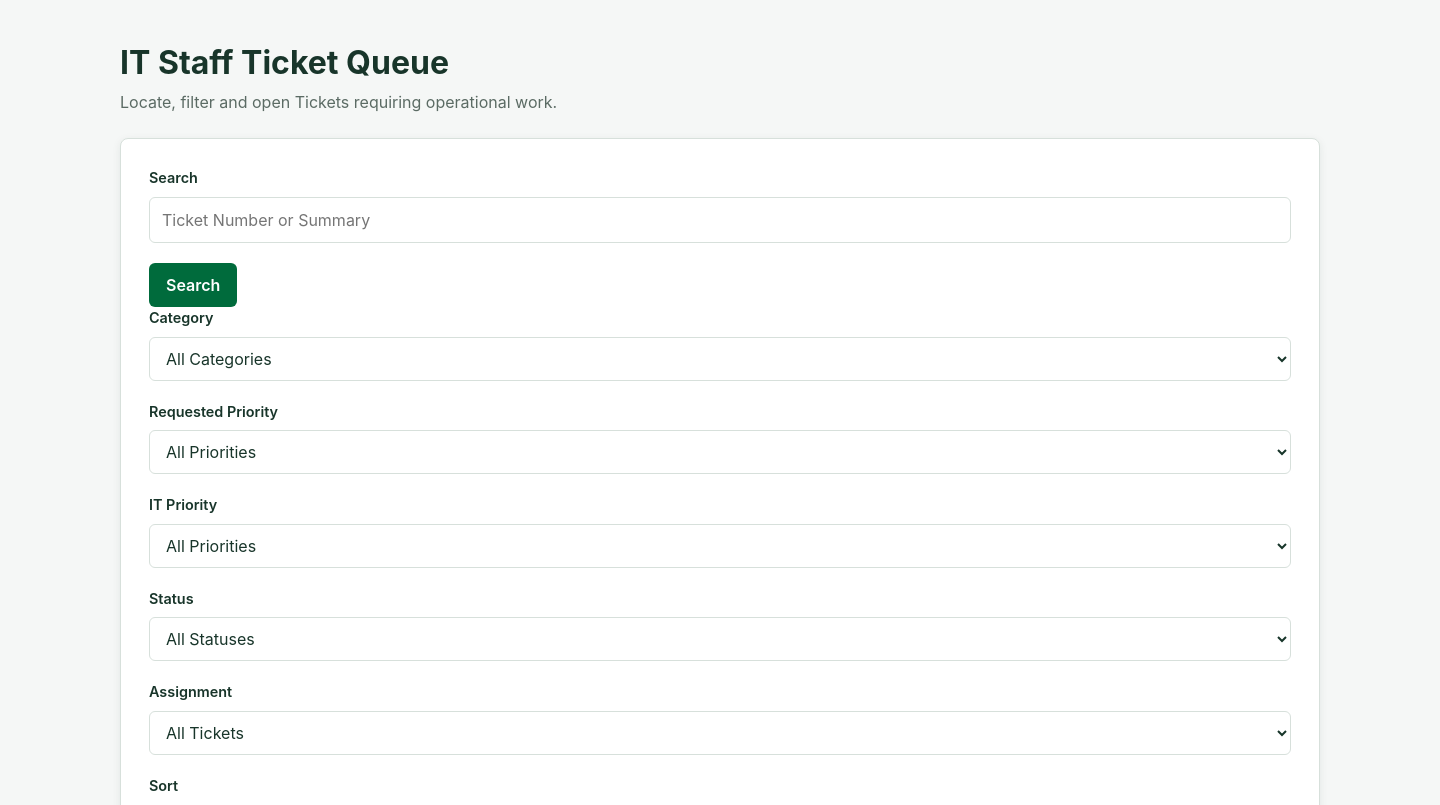
it: StaffTicketQueue › displays a separate no-search-results state
Type "missing ticket" into the field labelled "Search" at [720, 220], box [149, 197, 1291, 243]
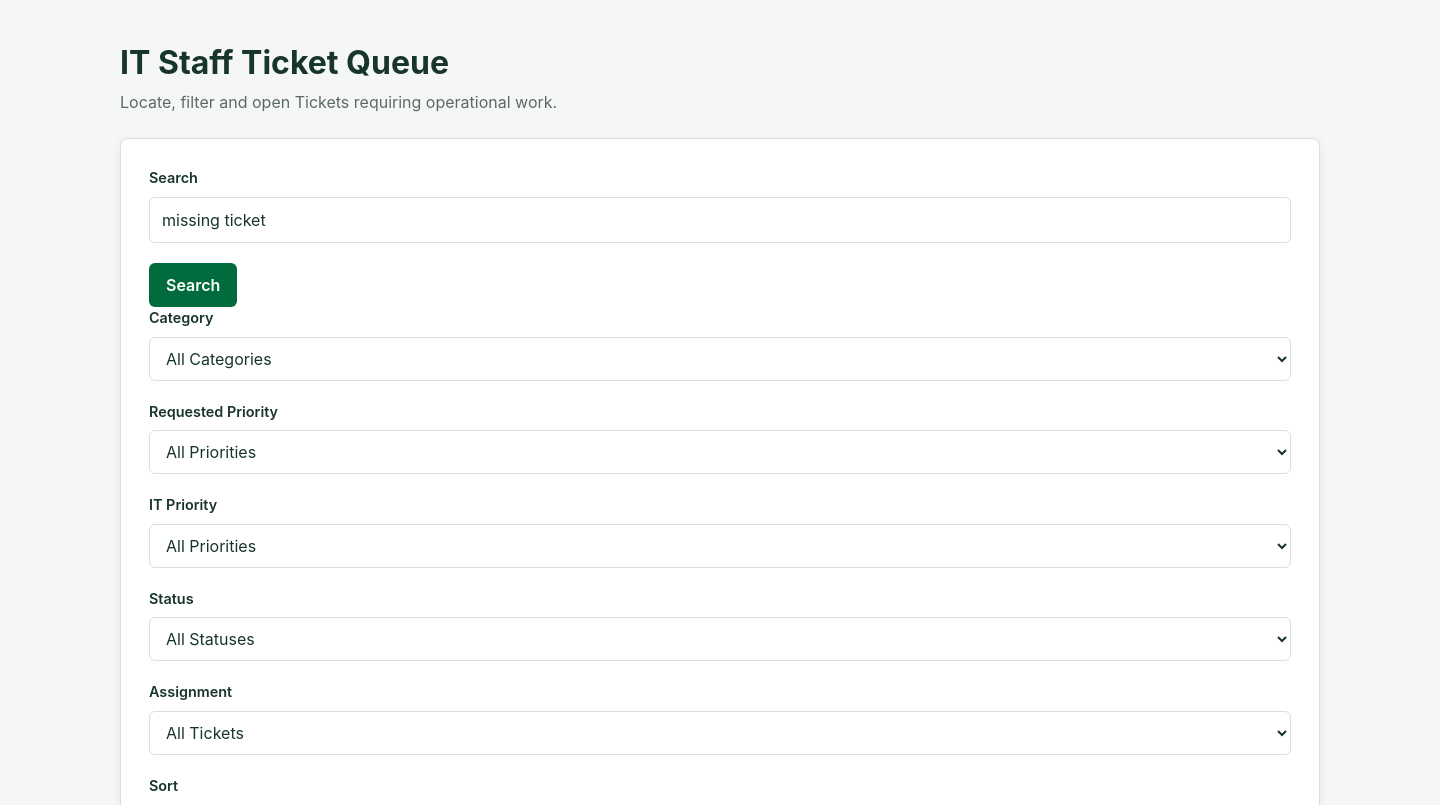
Click the button "Search" at [193, 285], box [149, 263, 237, 307]
(page scrolled)
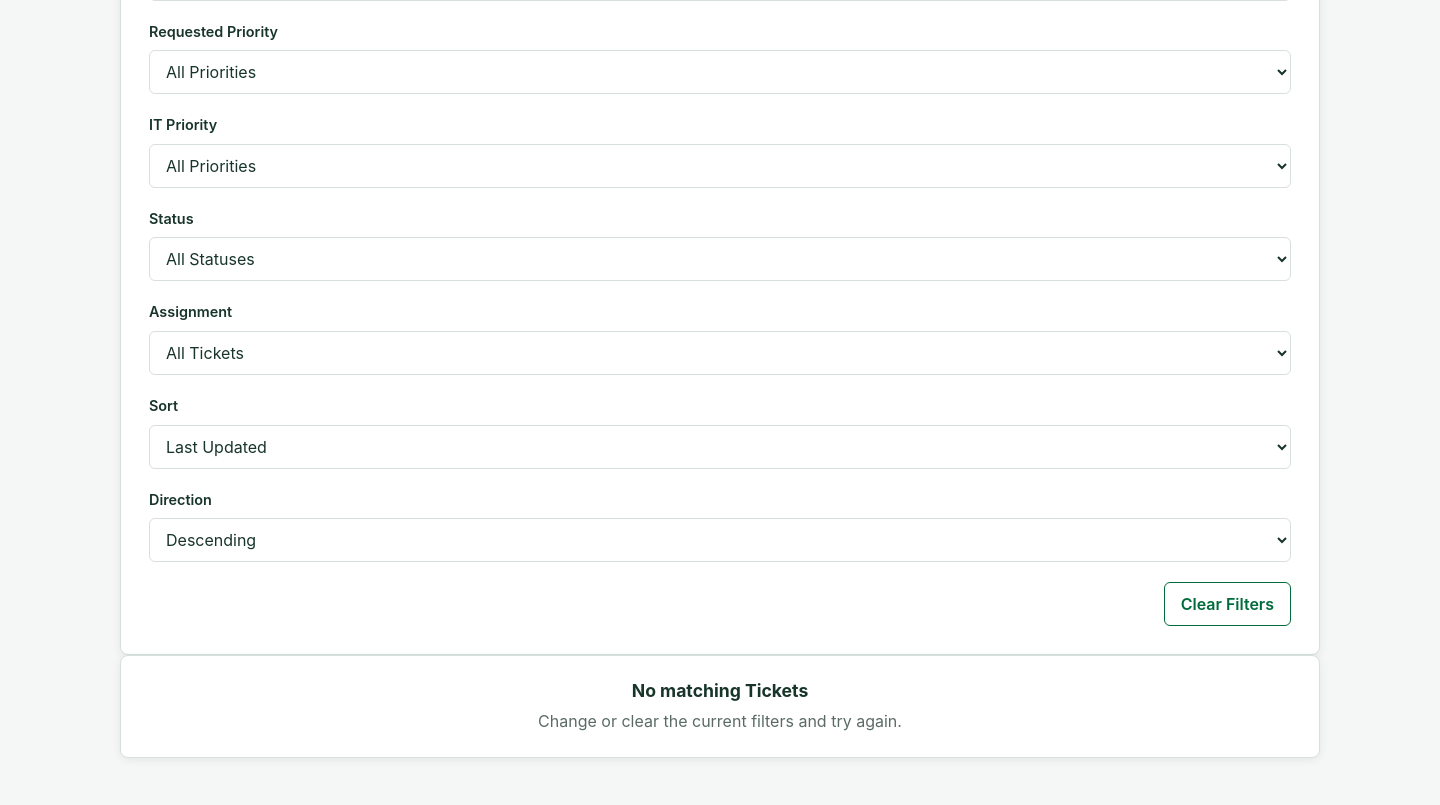
Expected: the heading "No matching Tickets" is shown, [632, 680, 808, 701]
